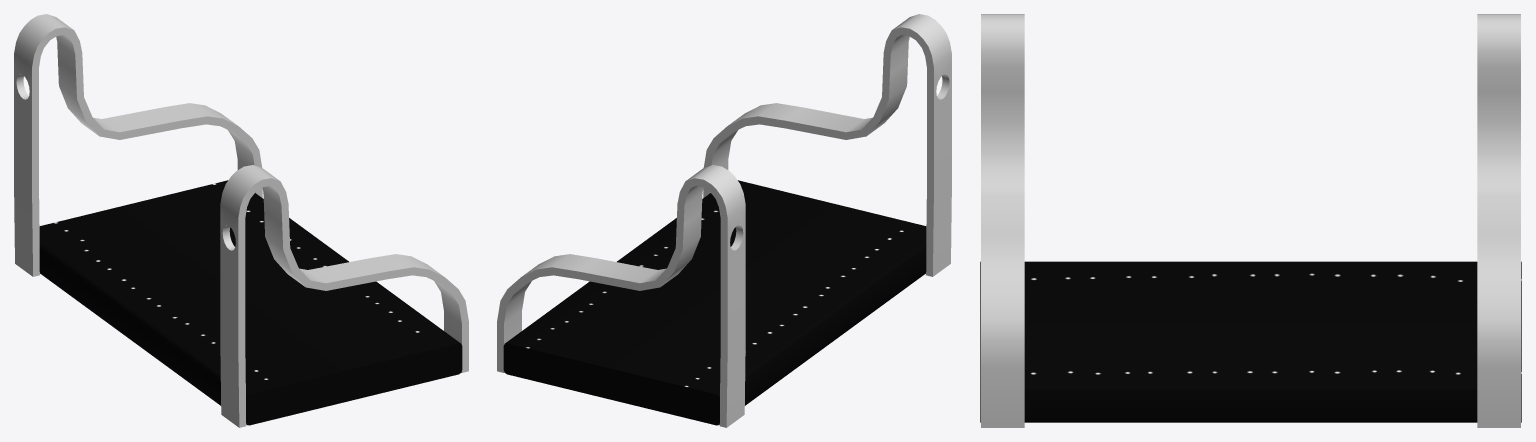
Rendered from Shelf.obj.
The picture shows the model from 3 angles, left to right: view 1: azimuth 30°, elevation 25°; view 2: azimuth 150°, elevation 25°; view 3: azimuth 270°, elevation 25°; orthographic projection. The views are drawn at different scales.
Visible parts, largest first — view 1: Cube_Cube.001; view 2: Cube_Cube.001; view 3: Cube_Cube.001.
Part boxes in pixels (left/top/right/bottom): Cube_Cube.001: left=14, top=14, right=468, bottom=427; Cube_Cube.001: left=497, top=14, right=951, bottom=427; Cube_Cube.001: left=980, top=14, right=1521, bottom=427.
Size of the model in its own units: 2.1 by 2.11 by 3.54.
